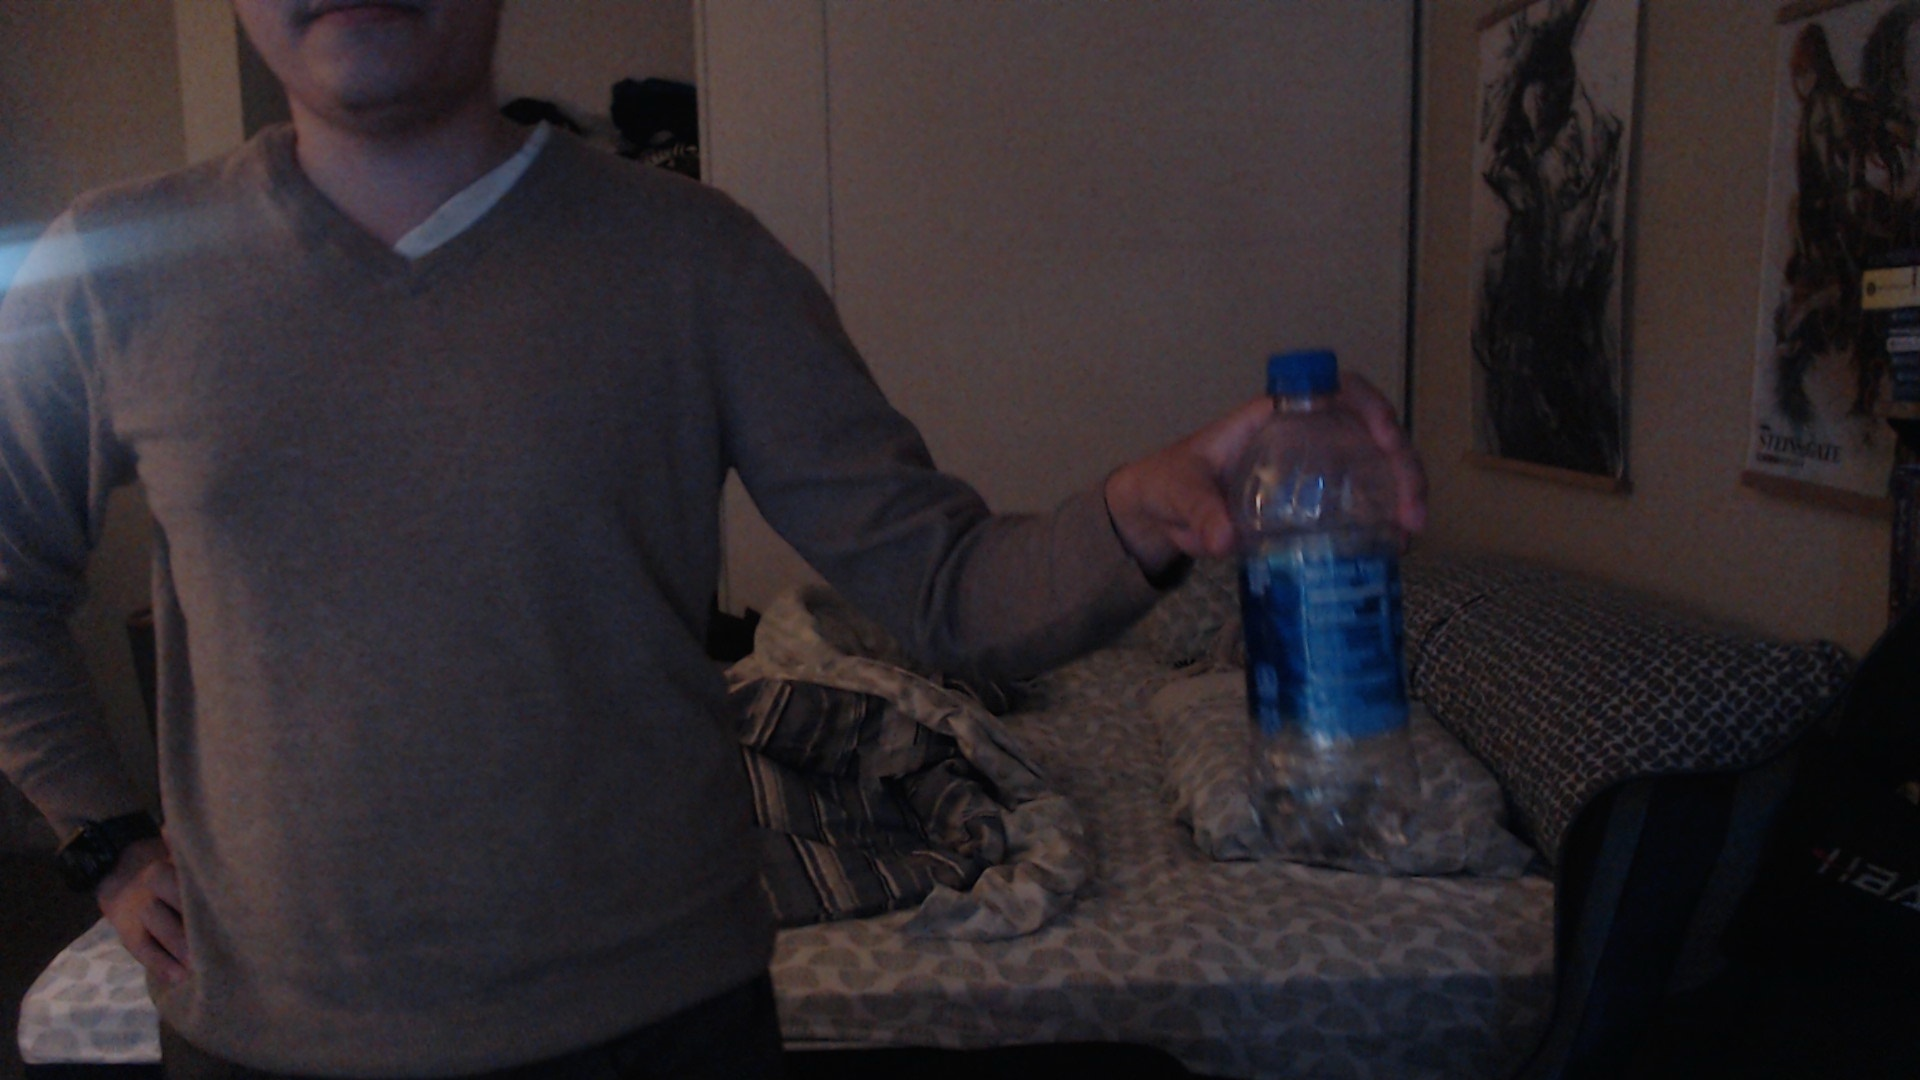bottle: (1224, 344, 1420, 845)
